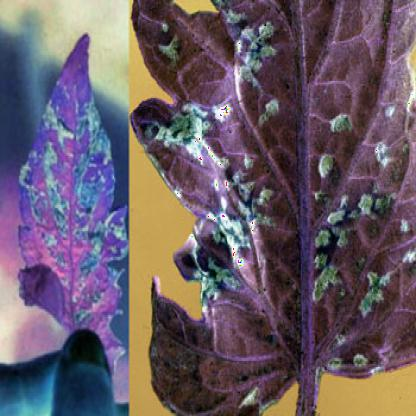tomato leaf bacterial spot: (131, 6, 415, 414), (13, 28, 128, 395)
